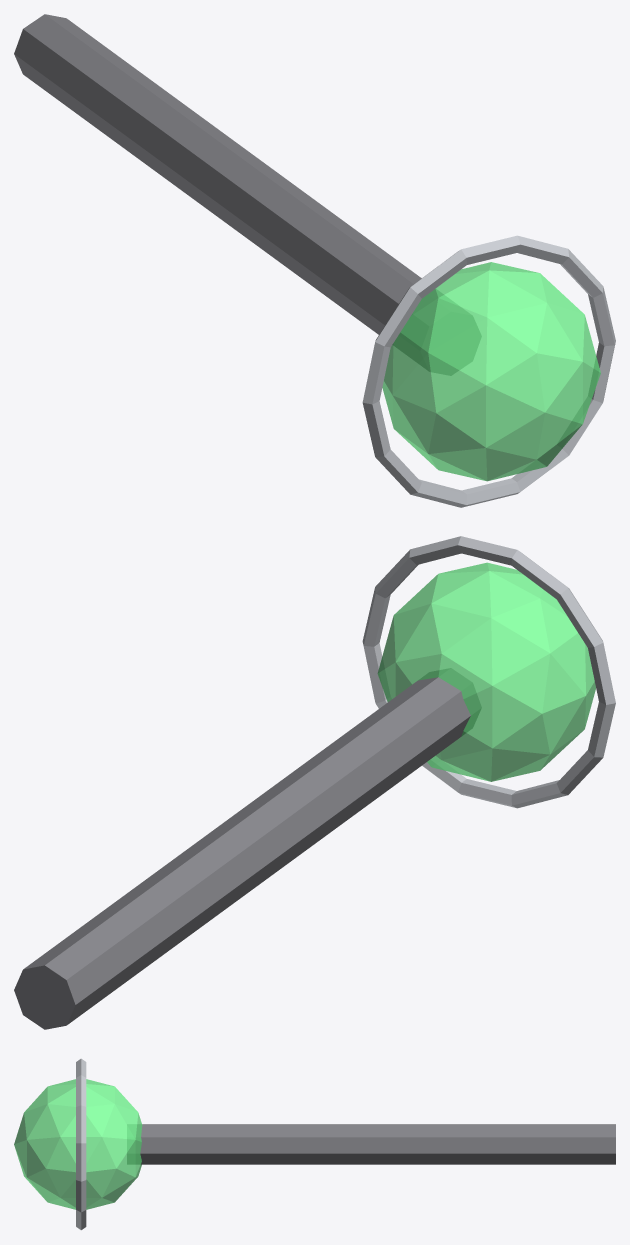
The model's file is archive_hologram_light.glb.
3 views of the same model, one above another, from view 1: azimuth 30°, elevation 25°; view 2: azimuth 150°, elevation 25°; view 3: azimuth 270°, elevation 25° (orthographic). The views are drawn at different scales.
Visible parts, largest first — view 1: post, light_orb, lamp_cage; view 2: post, light_orb, lamp_cage; view 3: post, light_orb, lamp_cage.
Boxes of the visible parts, <box> form: post: <box>14,14,481,375</box>; light_orb: <box>382,262,600,481</box>; lamp_cage: <box>362,235,615,507</box>; post: <box>14,668,481,1029</box>; light_orb: <box>377,562,595,781</box>; lamp_cage: <box>362,536,615,808</box>; post: <box>127,1124,615,1164</box>; light_orb: <box>14,1079,142,1209</box>; lamp_cage: <box>76,1058,86,1230</box>.
Bounding box in the file's own units: 0.576 × 0.5616 × 1.97.
